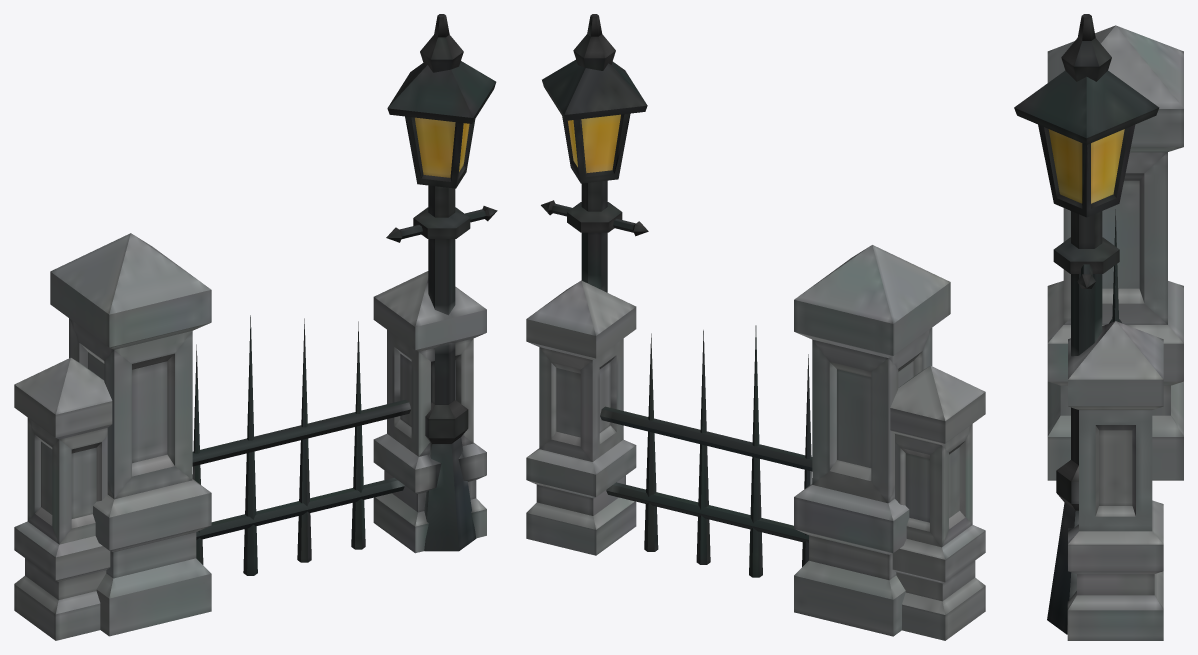
The model's file is fence-lamp.lod.glb.
The picture shows the model from 3 angles, left to right: view 1: azimuth 30°, elevation 25°; view 2: azimuth 150°, elevation 25°; view 3: azimuth 270°, elevation 25°; orthographic projection. The views are drawn at different scales.
Parts seen in each view (by area): view 1: fenceSingle; view 2: fenceSingle; view 3: fenceSingle.
Boxes of the visible parts, x1,y1,x2,y2 form: fenceSingle: (14, 14, 497, 640); fenceSingle: (526, 14, 985, 640); fenceSingle: (1014, 14, 1183, 640).
Size of the model in its own units: 2.07 by 2.3 by 0.585.
Materials: 1 (1 with a texture image).
